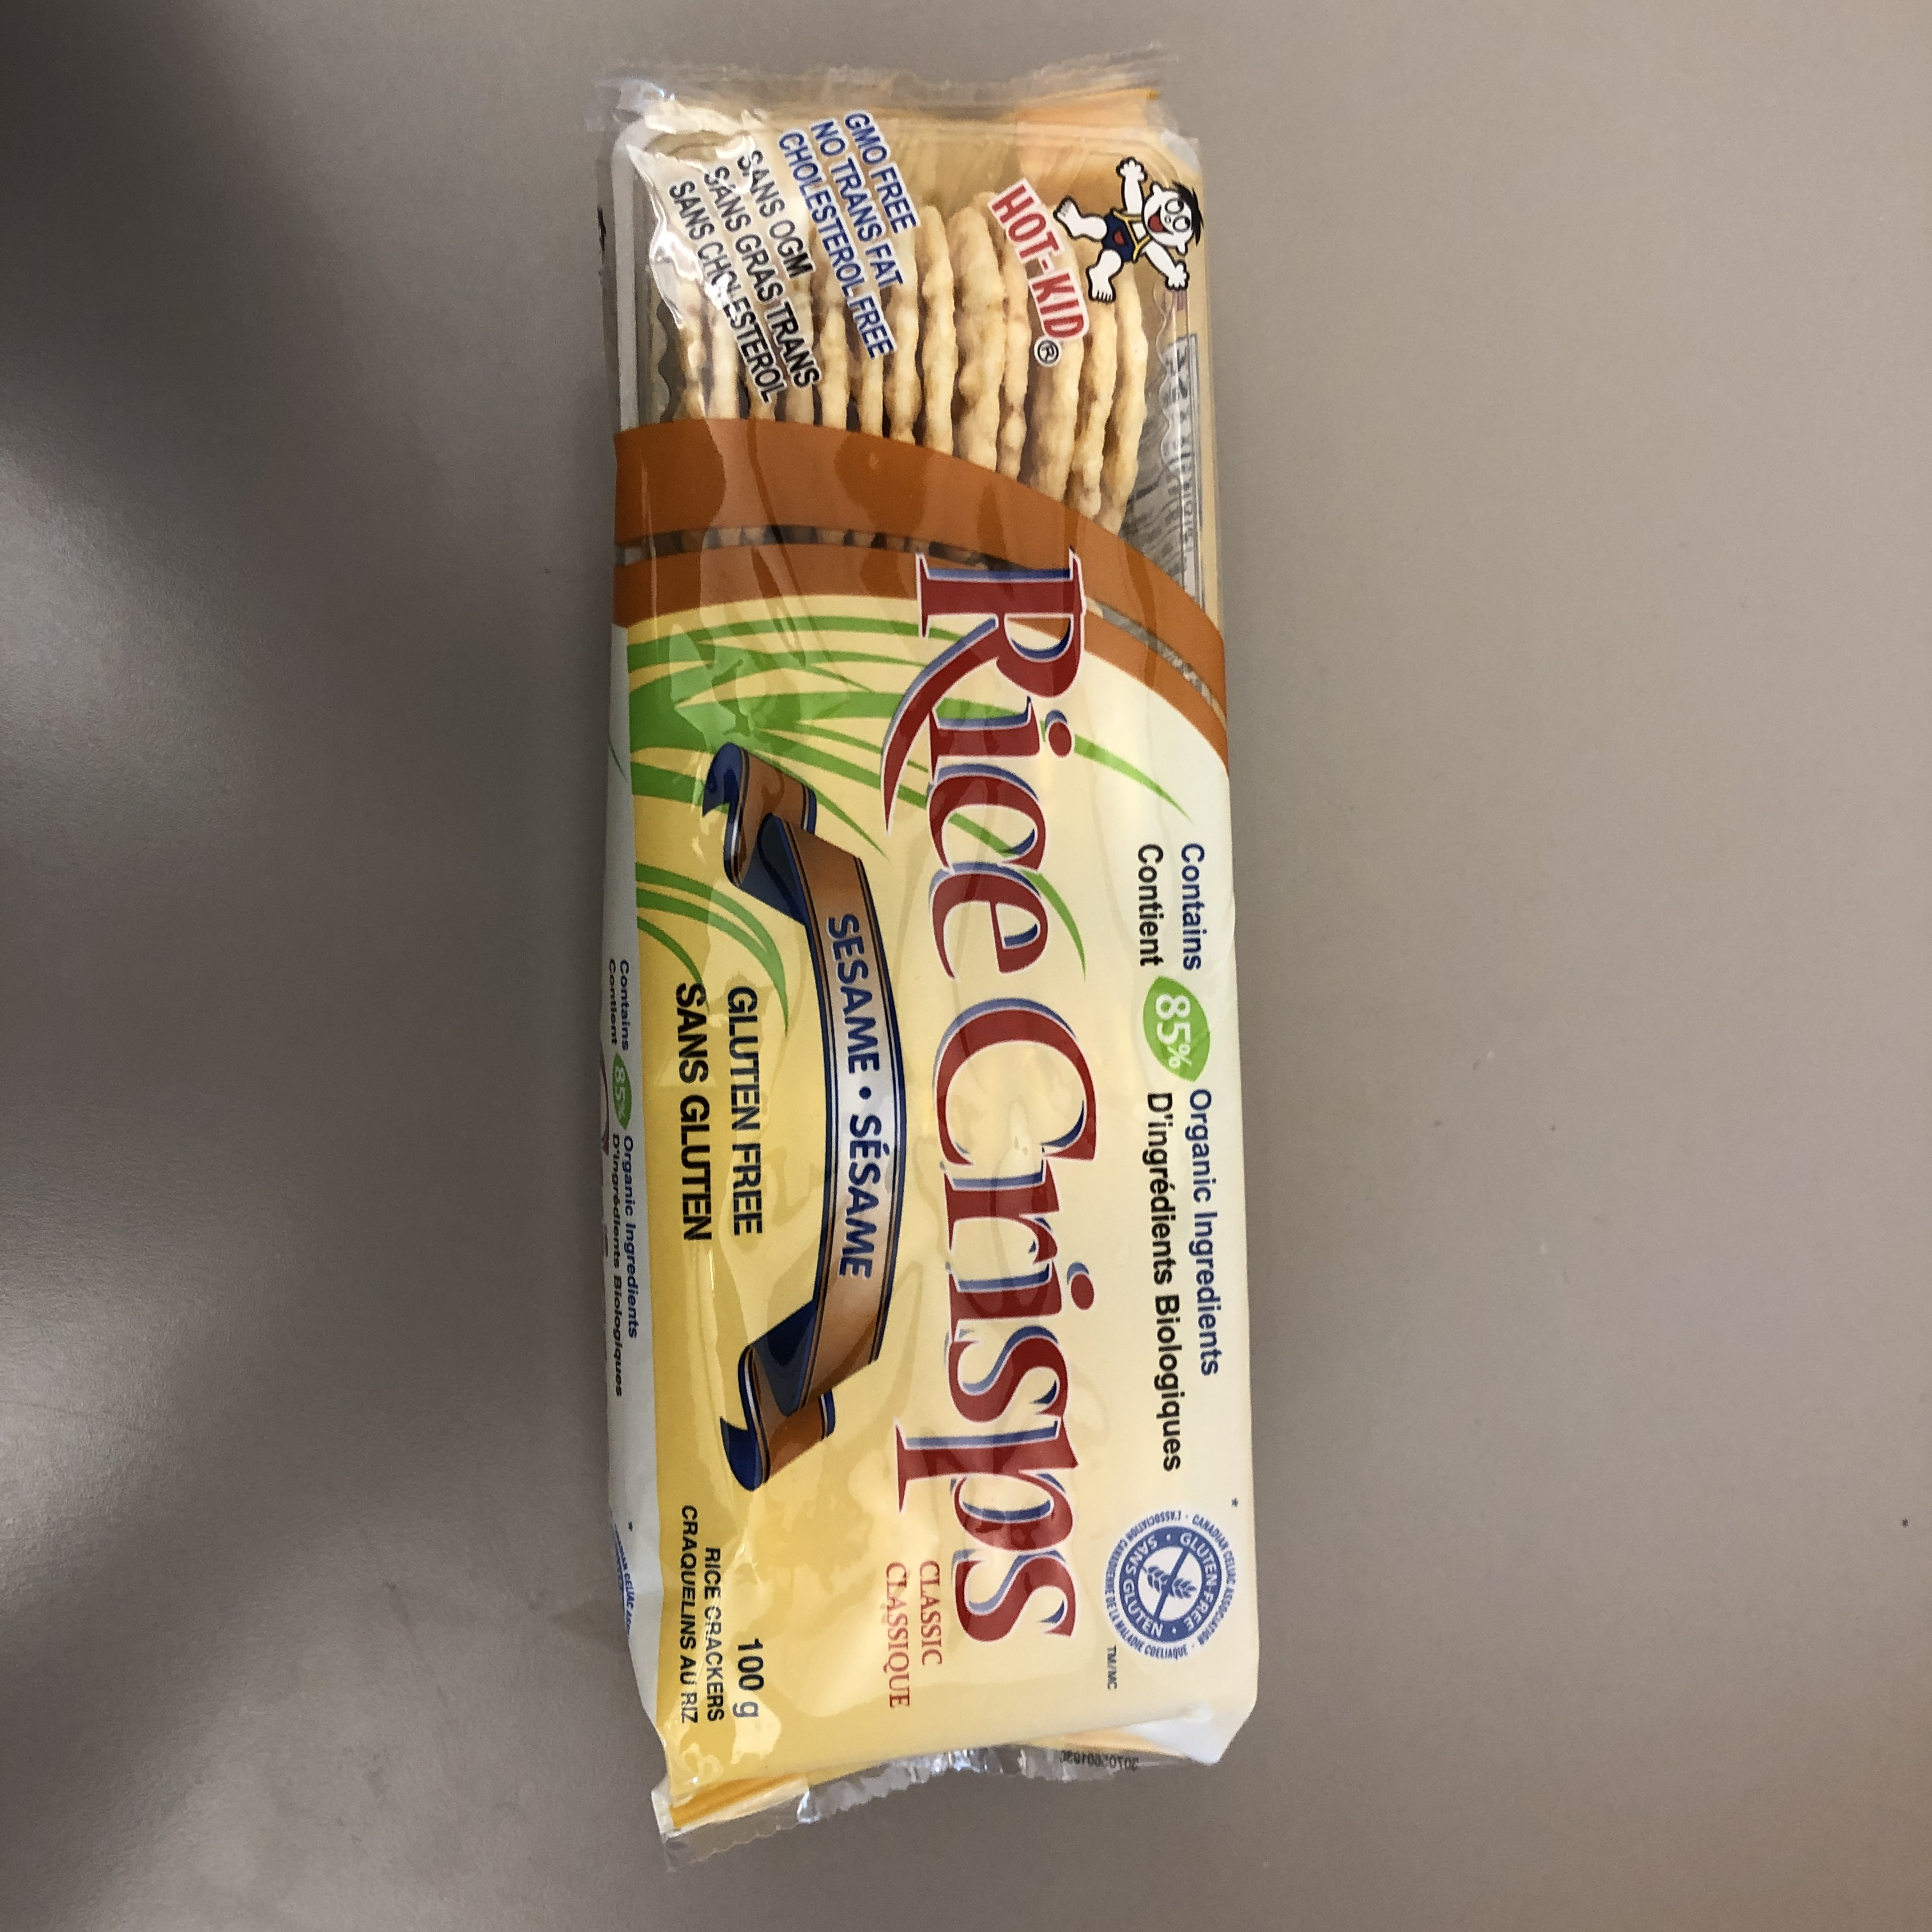hot_kid_rice_crisps_sesame: (73, 714, 1791, 1305)
